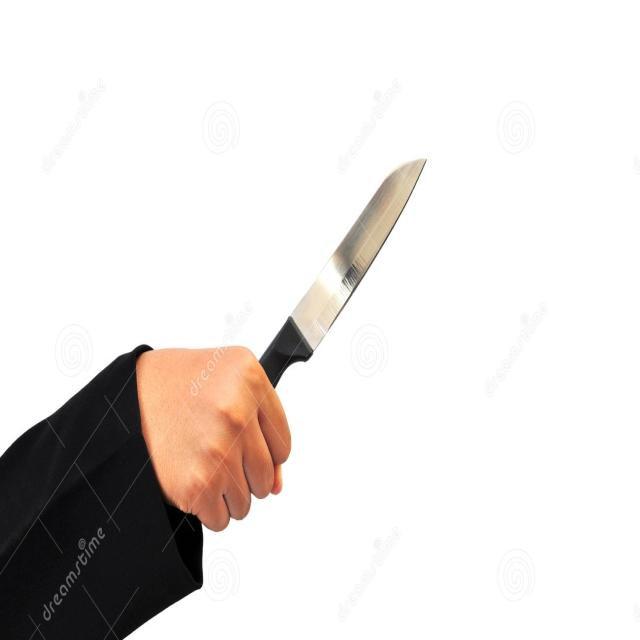knife: (258, 148, 429, 409)
